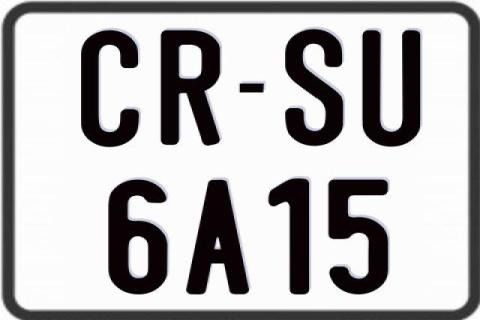0: (327, 178, 391, 296), (108, 179, 171, 297), (266, 178, 307, 294)
A: (184, 179, 252, 293)
C: (80, 28, 138, 150)
R: (161, 29, 221, 145)
S: (284, 28, 346, 146)
U: (359, 28, 417, 144)
